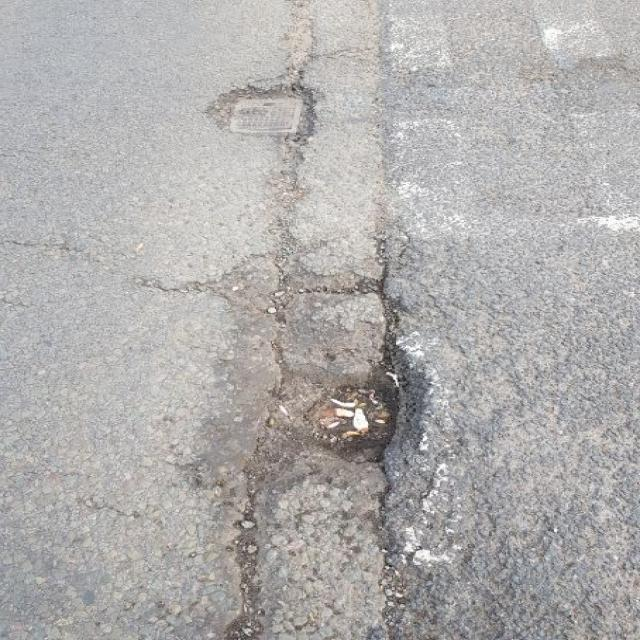pothole: (170, 250, 434, 504)
